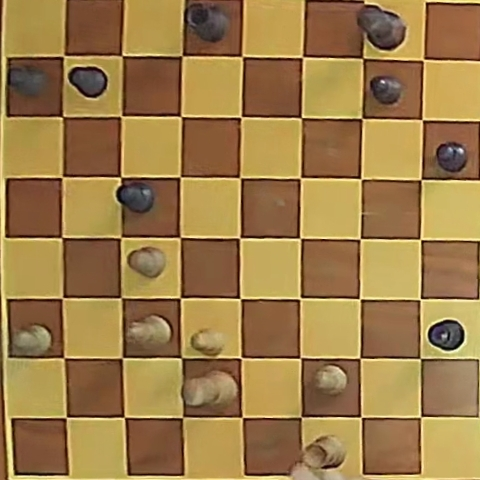black-king: (357, 5, 405, 50)
black-pawn: (69, 66, 108, 98), (9, 65, 47, 97), (117, 182, 155, 213), (370, 76, 404, 105), (436, 141, 467, 172)
black-rook: (185, 2, 229, 42), (428, 319, 465, 351)
white-bishop: (127, 315, 171, 348)
white-king: (183, 370, 237, 408)
white-pawn: (11, 324, 52, 356), (128, 247, 165, 278), (315, 364, 347, 395), (191, 328, 226, 356)
white-rook: (302, 437, 350, 471)
